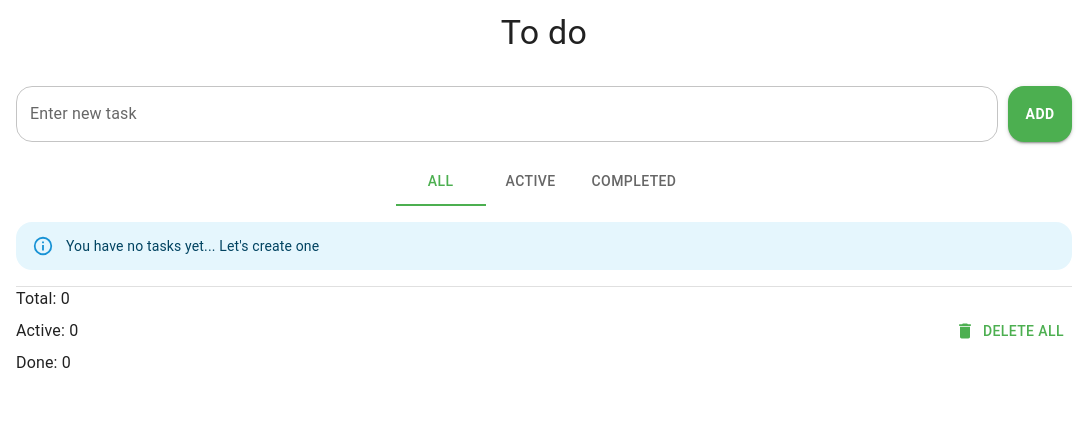
Test: App Component › filters tasks
// Add tasks
Step 1. Type "Active Task" into the field labelled "Enter new task" → (507, 114), box [16,86,998,142]
Step 2. Click the button "Add" → click(1040, 114), box [1008,86,1072,142]
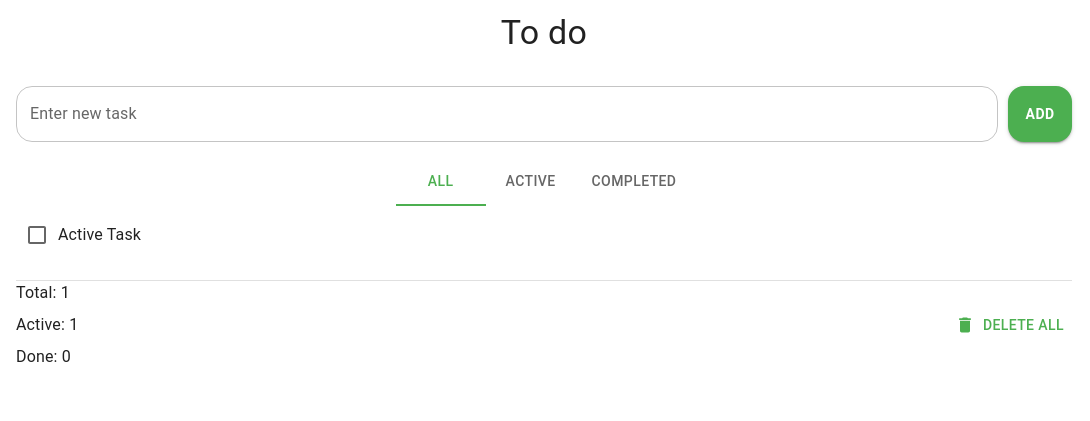
Step 3. Type "Completed Task" into the field labelled "Enter new task" → (507, 114), box [16,86,998,142]
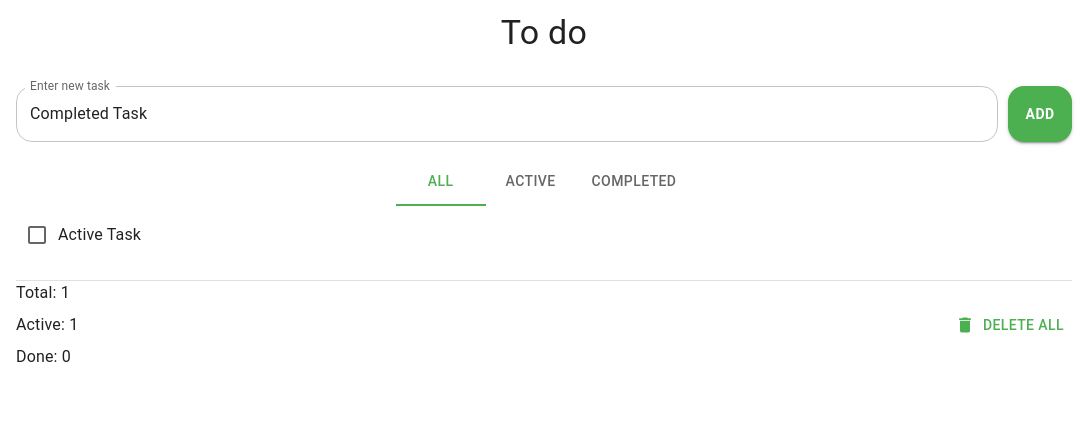
Step 4. Click the button "Add" → click(1040, 114), box [1008,86,1072,142]
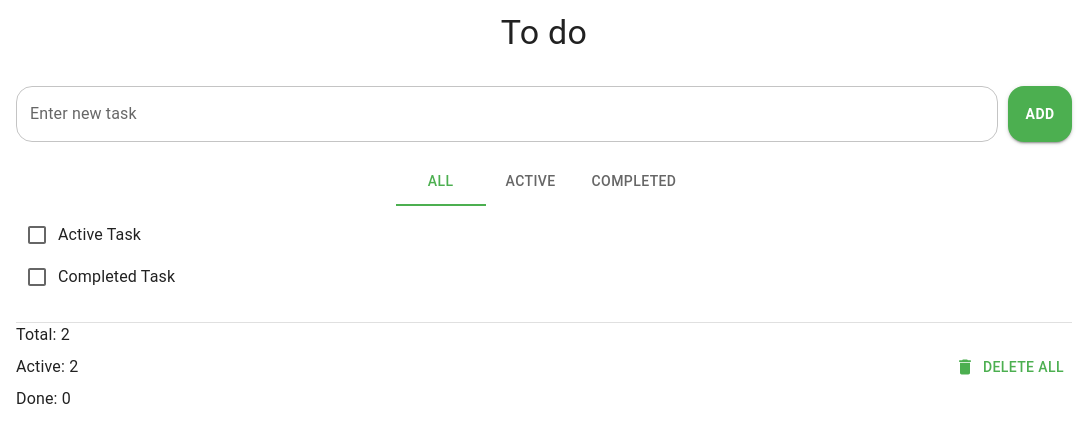
Step 5. Click the checkbox next to "Completed Task" → click(37, 277), box [25,265,49,289]
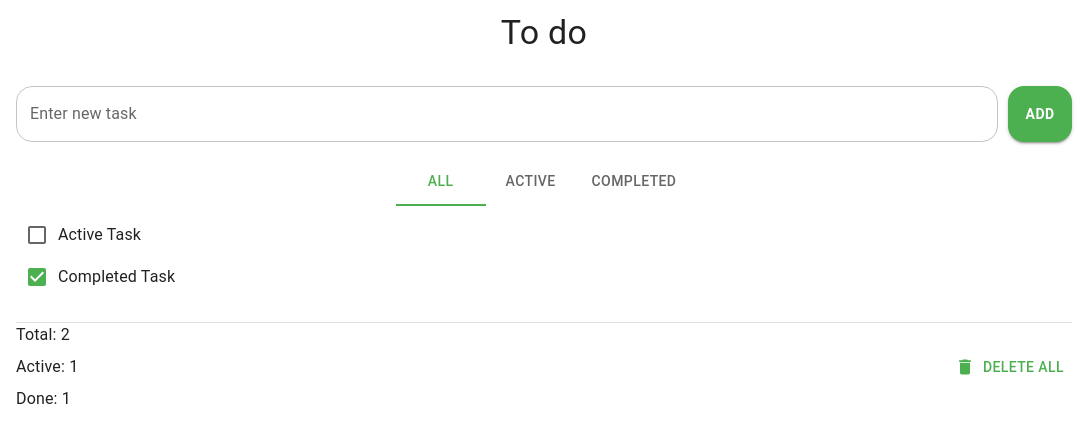
// Switch to Active tab
Step 6. Click the tab "Active" → click(531, 182), box [486,158,576,206]
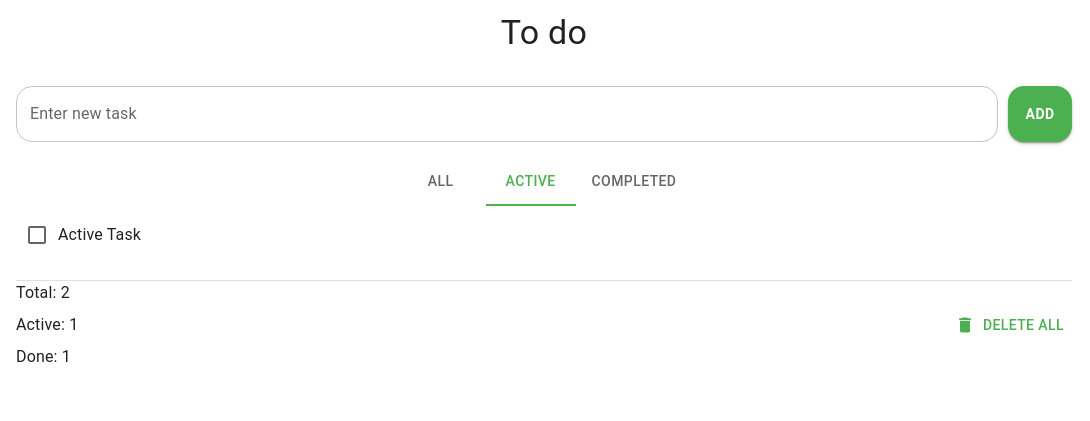
Expected: the text "Active Task" is shown, [58,223,141,247]
Expected: the text "Completed Task" is gone
// Switch to Completed tab
Step 7. Click the tab "Completed" → click(634, 182), box [576,158,692,206]
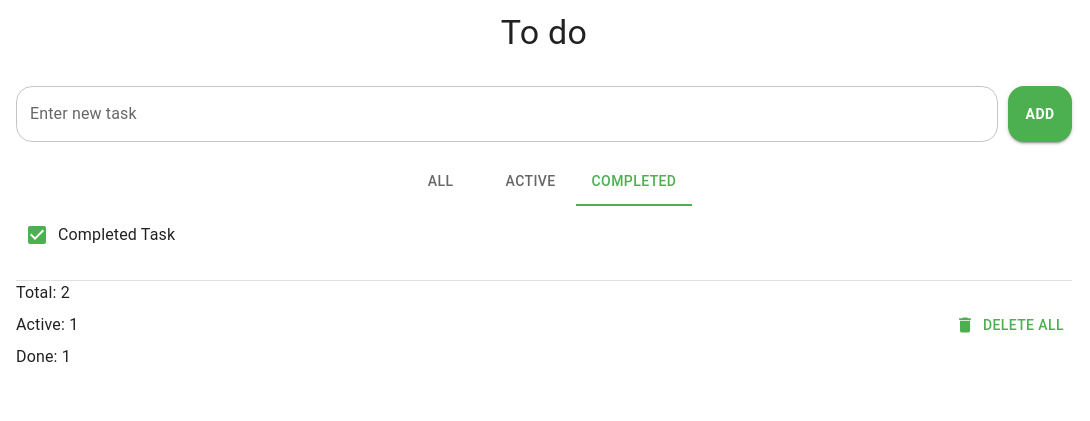
Expected: the text "Completed Task" is shown, [58,223,175,247]
Expected: the text "Active Task" is gone
